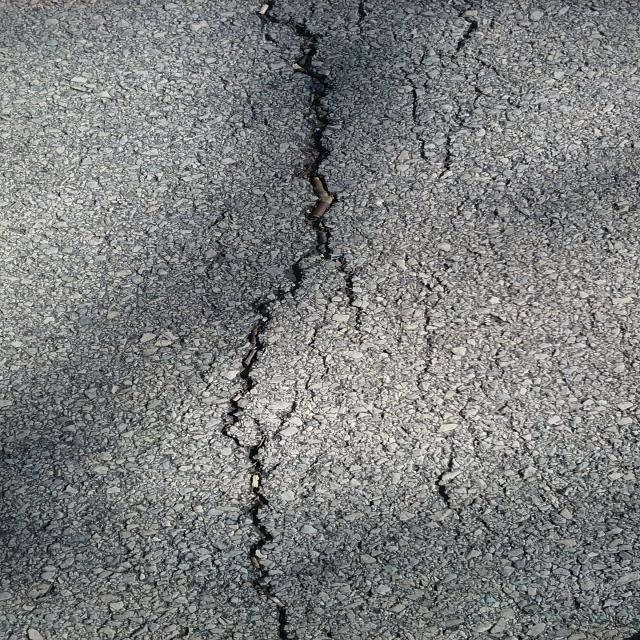Longitudial: (205, 0, 363, 640)
